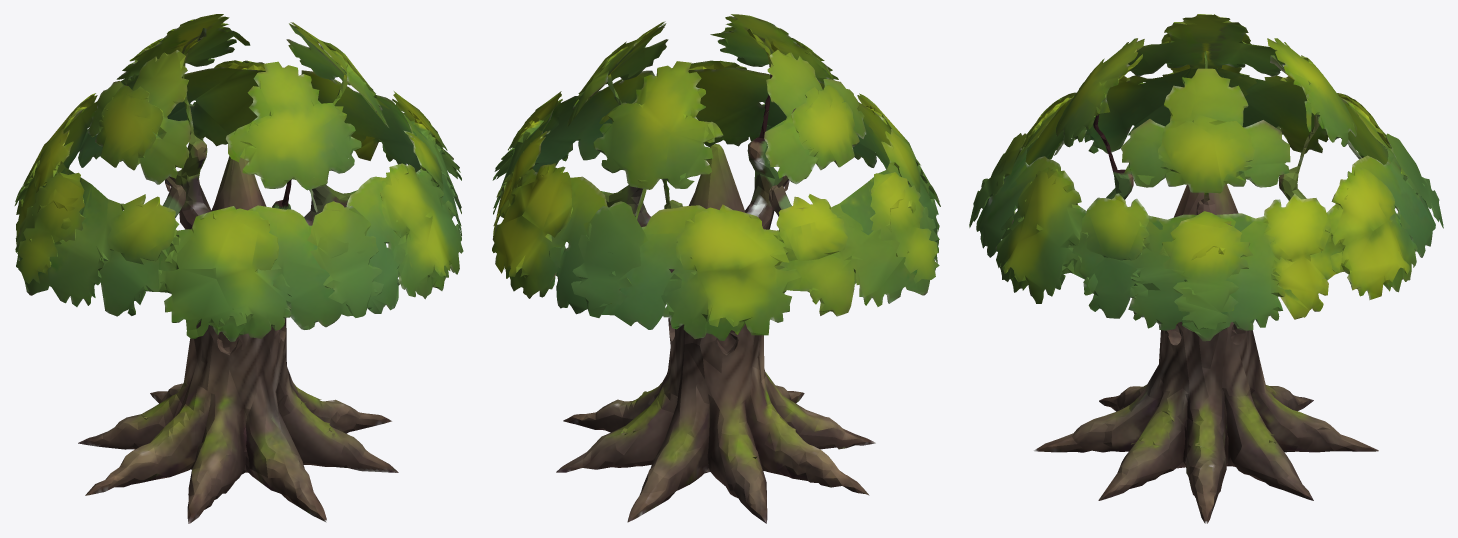
File: oak.glb
The picture shows the model from 3 angles, left to right: view 1: azimuth 30°, elevation 25°; view 2: azimuth 150°, elevation 25°; view 3: azimuth 270°, elevation 25°; orthographic projection. The views are drawn at different scales.
Parts seen in each view (by area): view 1: Rodin_oak; view 2: Rodin_oak; view 3: Rodin_oak.
Part boxes in pixels (box(x1,y1,x2,y2)): Rodin_oak: box(14, 14, 463, 523); Rodin_oak: box(492, 14, 940, 523); Rodin_oak: box(969, 14, 1443, 523).
Size of the model in its own units: 1.9 by 1.77 by 1.86.
1 material, 1 textured.
